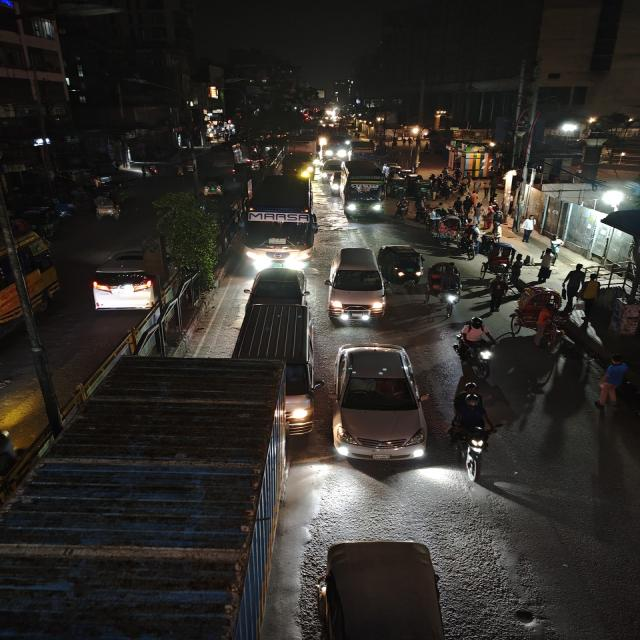bus: (239, 173, 320, 268), (0, 228, 61, 342), (337, 158, 388, 218), (350, 140, 377, 160), (325, 139, 349, 161)
car: (331, 338, 428, 468), (86, 246, 165, 316), (322, 244, 384, 326), (243, 270, 314, 308), (320, 159, 344, 177)
cng: (378, 241, 425, 285), (200, 175, 227, 199)
motorcycle: (445, 386, 500, 486), (452, 316, 497, 380)
pedestrian: (594, 353, 631, 415), (485, 274, 509, 314), (564, 263, 587, 298), (581, 272, 602, 310), (536, 248, 555, 281), (509, 250, 529, 280), (460, 231, 480, 260), (519, 214, 538, 244), (490, 209, 505, 239), (549, 234, 565, 258), (394, 200, 409, 220)
rickshaw: (508, 284, 557, 338), (424, 260, 465, 316), (88, 191, 126, 223), (434, 216, 466, 248)
truck: (0, 354, 290, 640), (280, 138, 318, 174)
